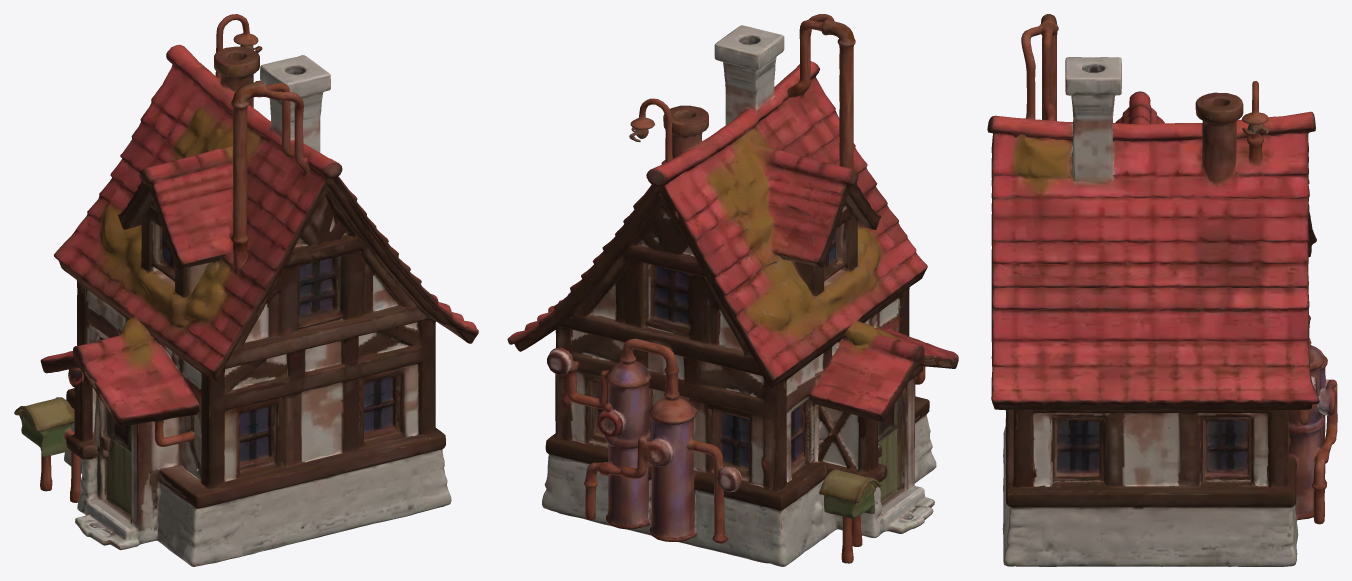
The model's file is home.glb.
3 renders of one model, left to right at view 1: azimuth 30°, elevation 25°; view 2: azimuth 150°, elevation 25°; view 3: azimuth 270°, elevation 25°, orthographic. The views are drawn at different scales.
Bounding box in the file's own units: 0.7757 × 1 × 0.6869.
Materials: 1 (1 with a texture image).
